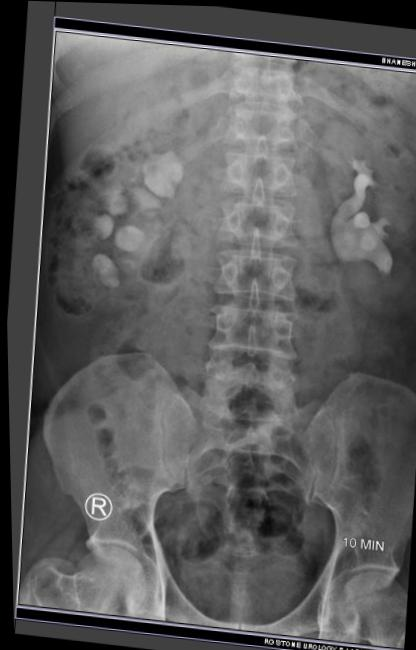bladder: (152, 532, 298, 649)
left kidney: (294, 82, 415, 311)
vertebrae: (195, 123, 296, 191)
